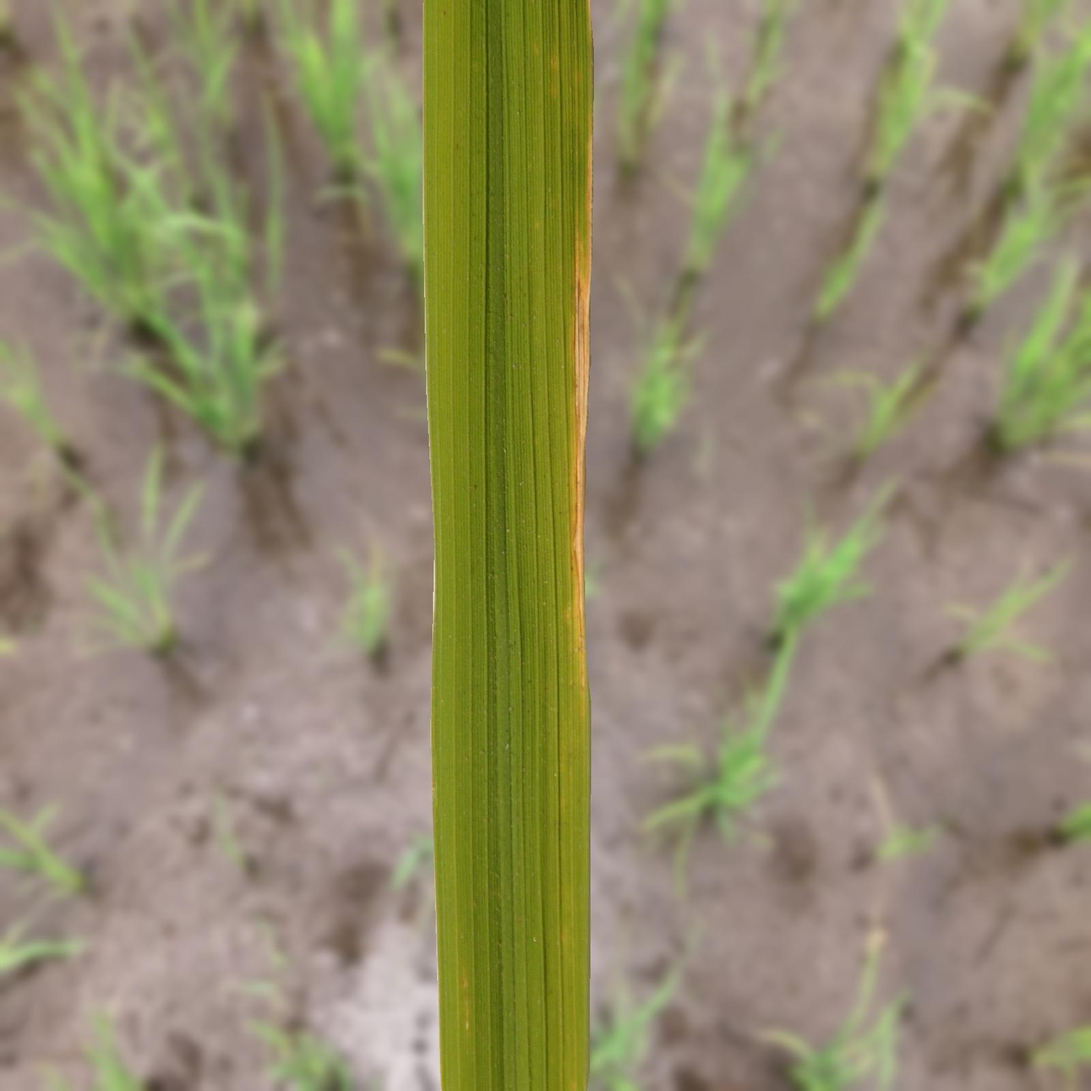BLS: (572, 107, 592, 719)
LEAF: (423, 0, 593, 1090)
